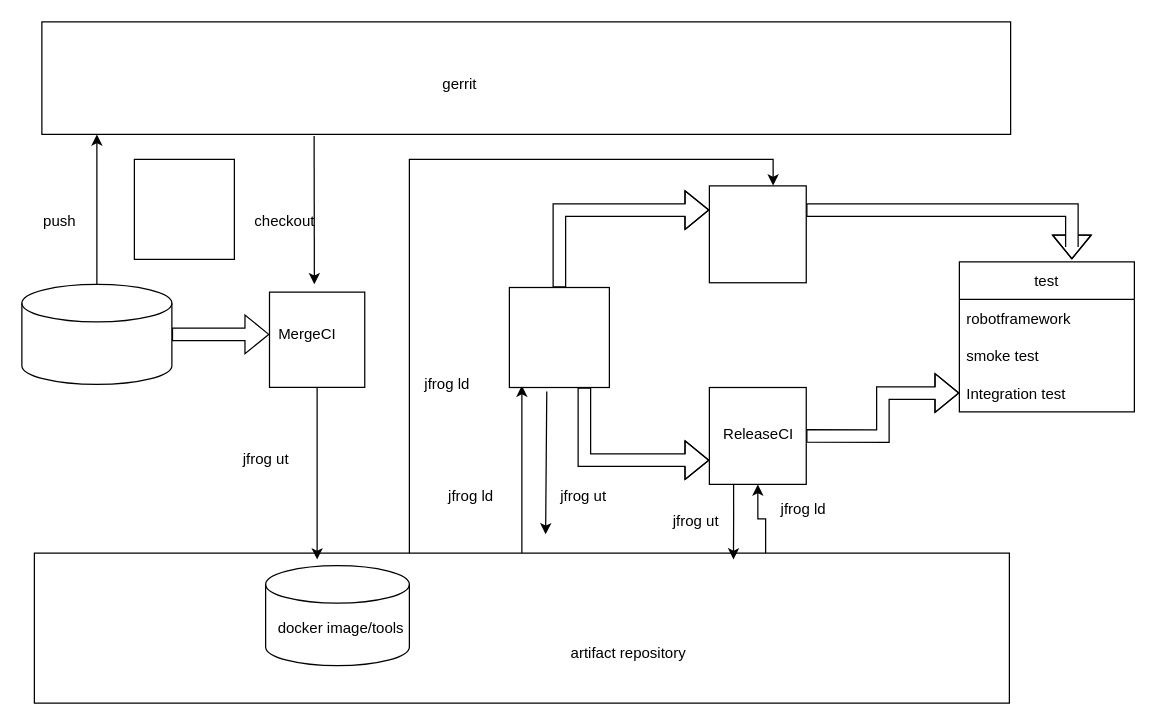
Image size: 1156x725. Some labels were removed from this diagram. Here are the shapes that lost their labels. From the top down, the centre of each, then its label:
At point 183,208: "VerifyCI".
At point 757,234: "DailyCI".
At point 558,337: "ComponentCI".
